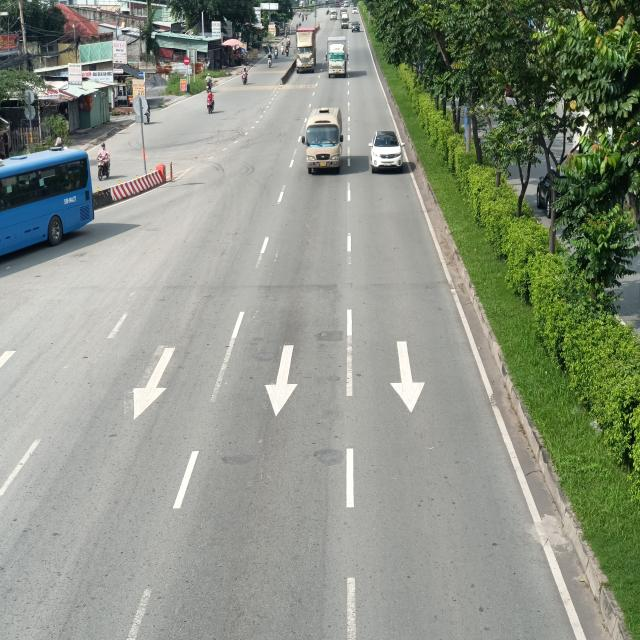car: (368, 131, 406, 173)
coach: (0, 149, 94, 249), (302, 106, 346, 180)
container: (294, 27, 317, 73)
truck: (325, 36, 349, 78)
